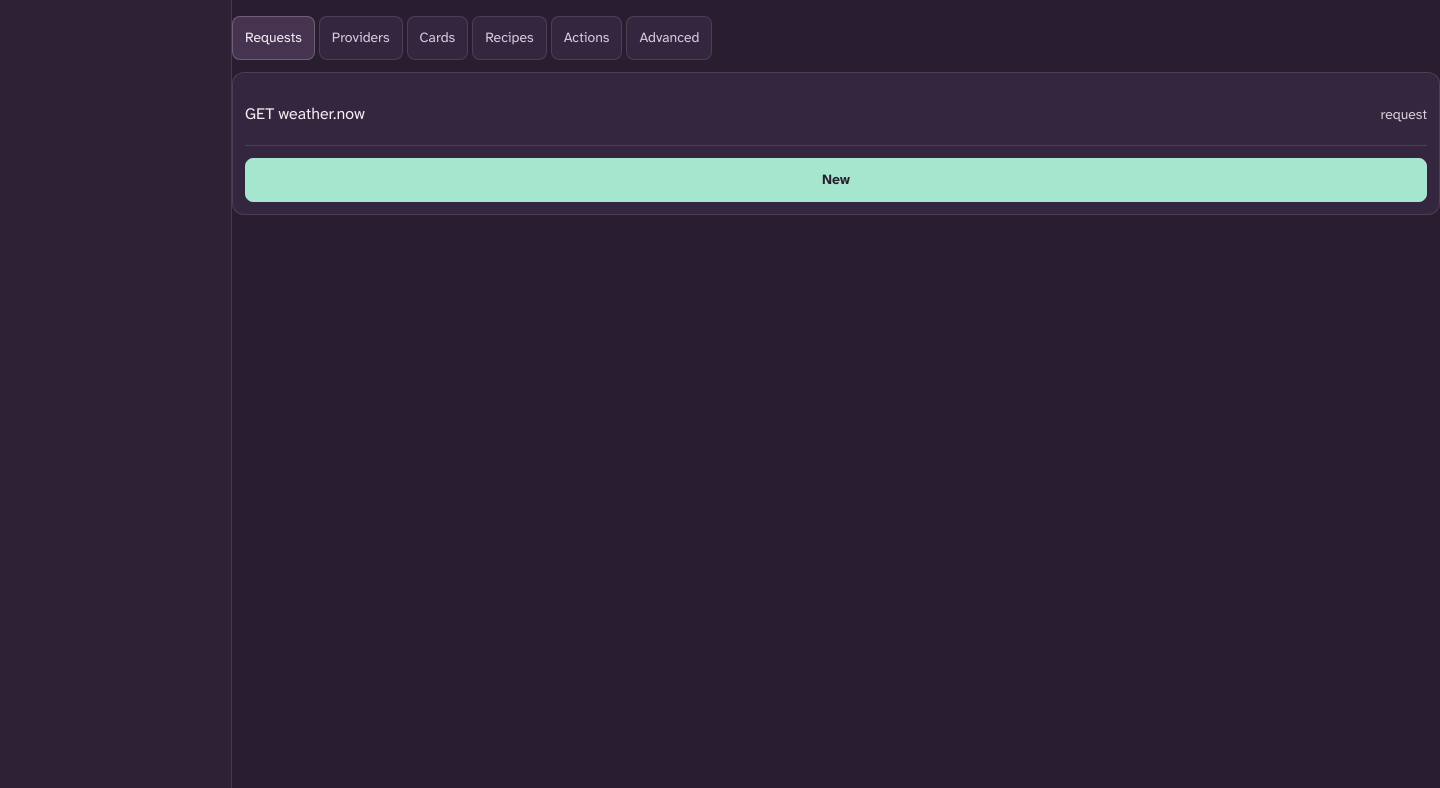
Test case: Connect: try › a read request: Try posts, then shows the status code, the duration and the sample as text
Click the tab "Requests" at (273, 38), box [232,16,315,60]
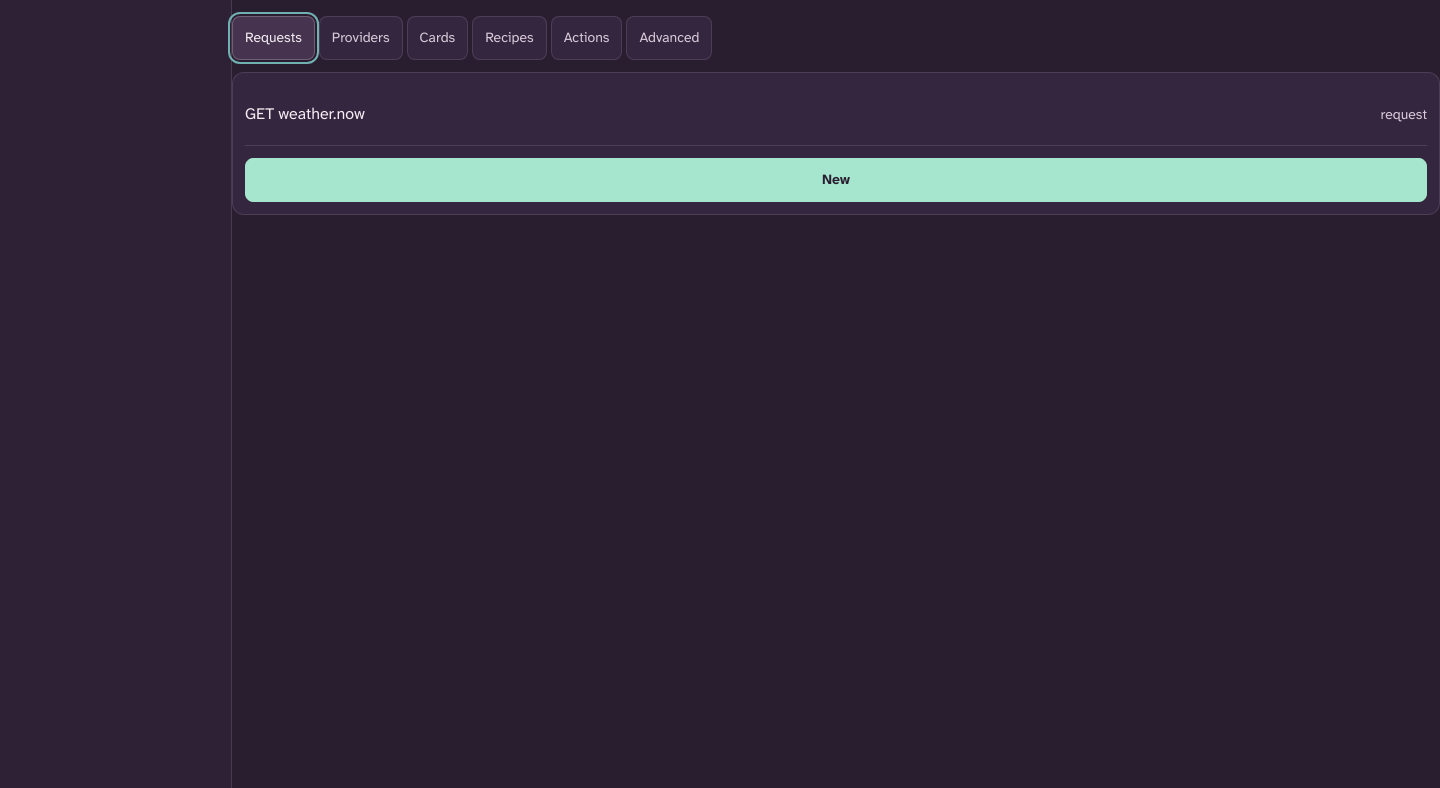
Click the button "GET weather.now" at (305, 114), box [245,93,1368,137]
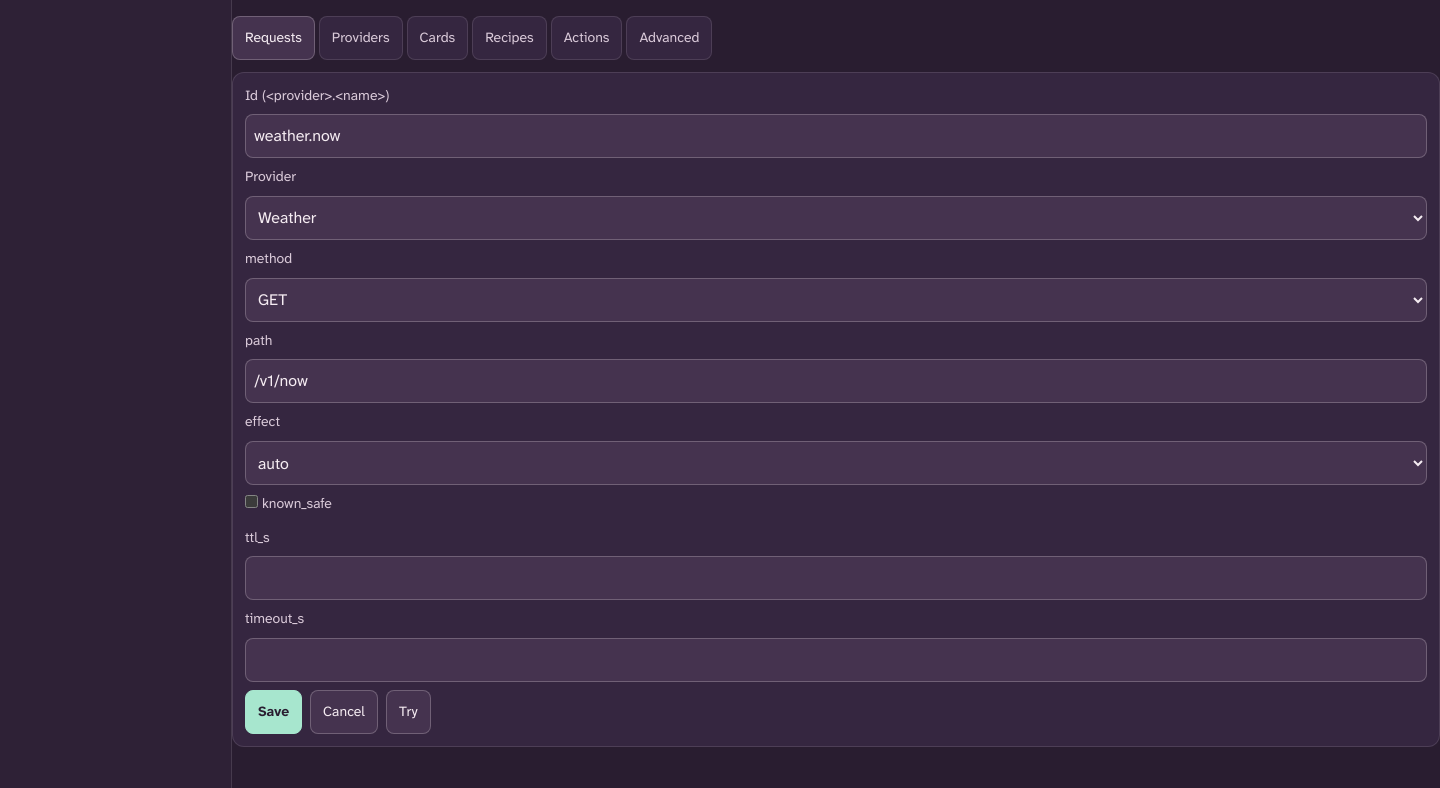
Click the button "Try" at (408, 712), box [386,690,431,734]
(page scrolled)
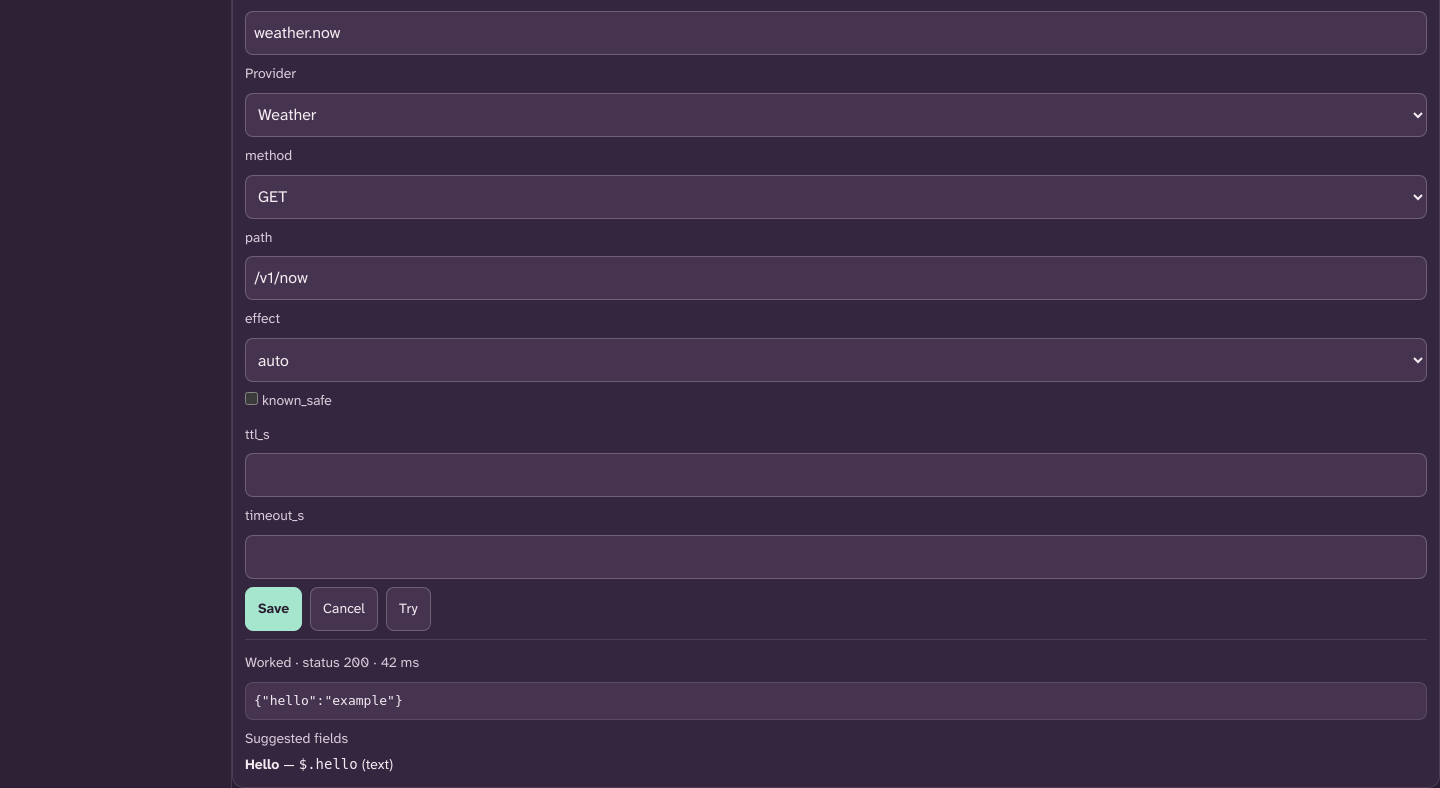
Check: the text "Worked · status 200 · 42 ms" is shown, box [245,653,419,671]
Check: the text "{\"hello\":\"example\"}" is shown, box [245,682,1427,720]
